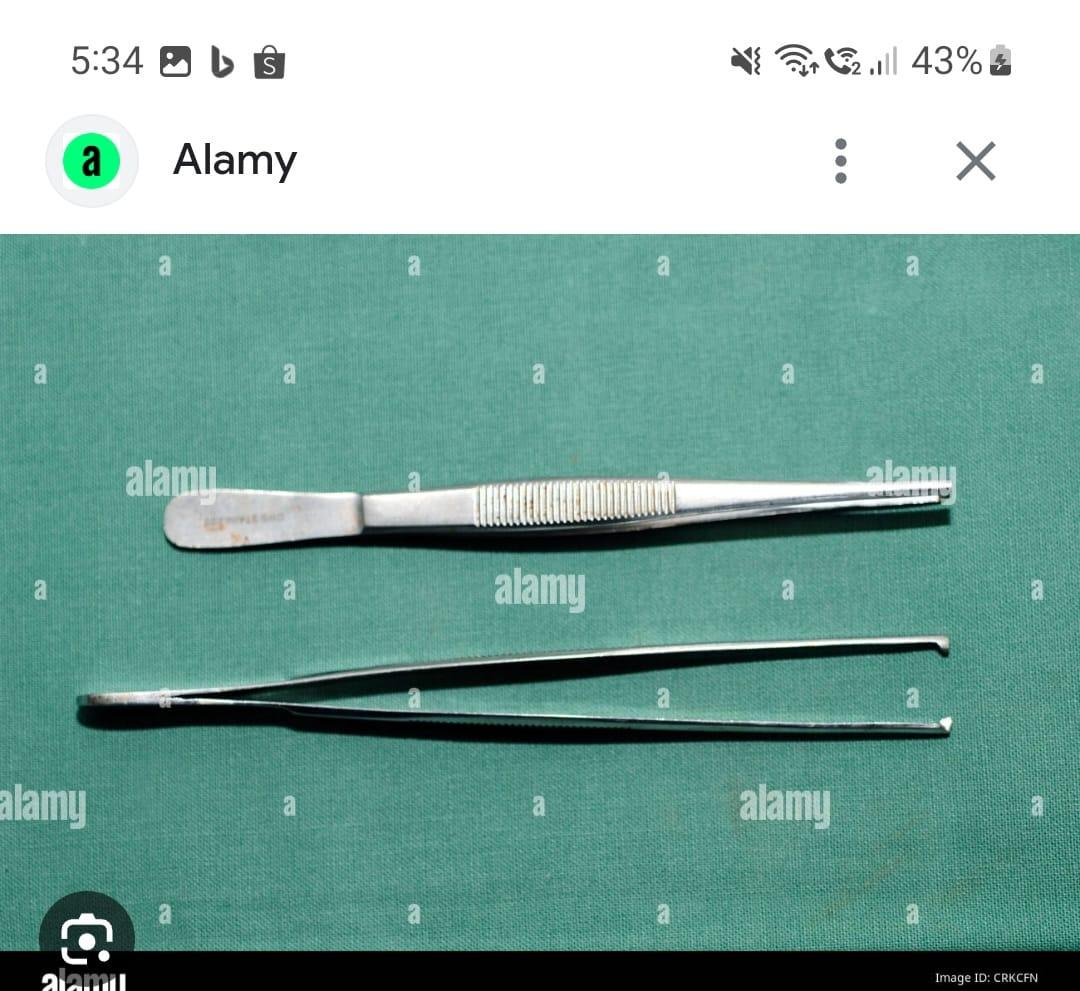Disscting Forceps: (69, 623, 984, 779), (151, 451, 1000, 546)
